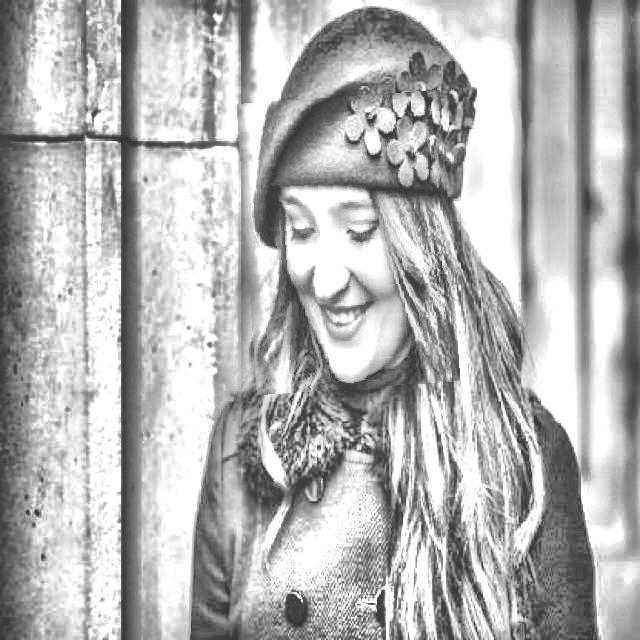happy: (242, 94, 456, 392)
